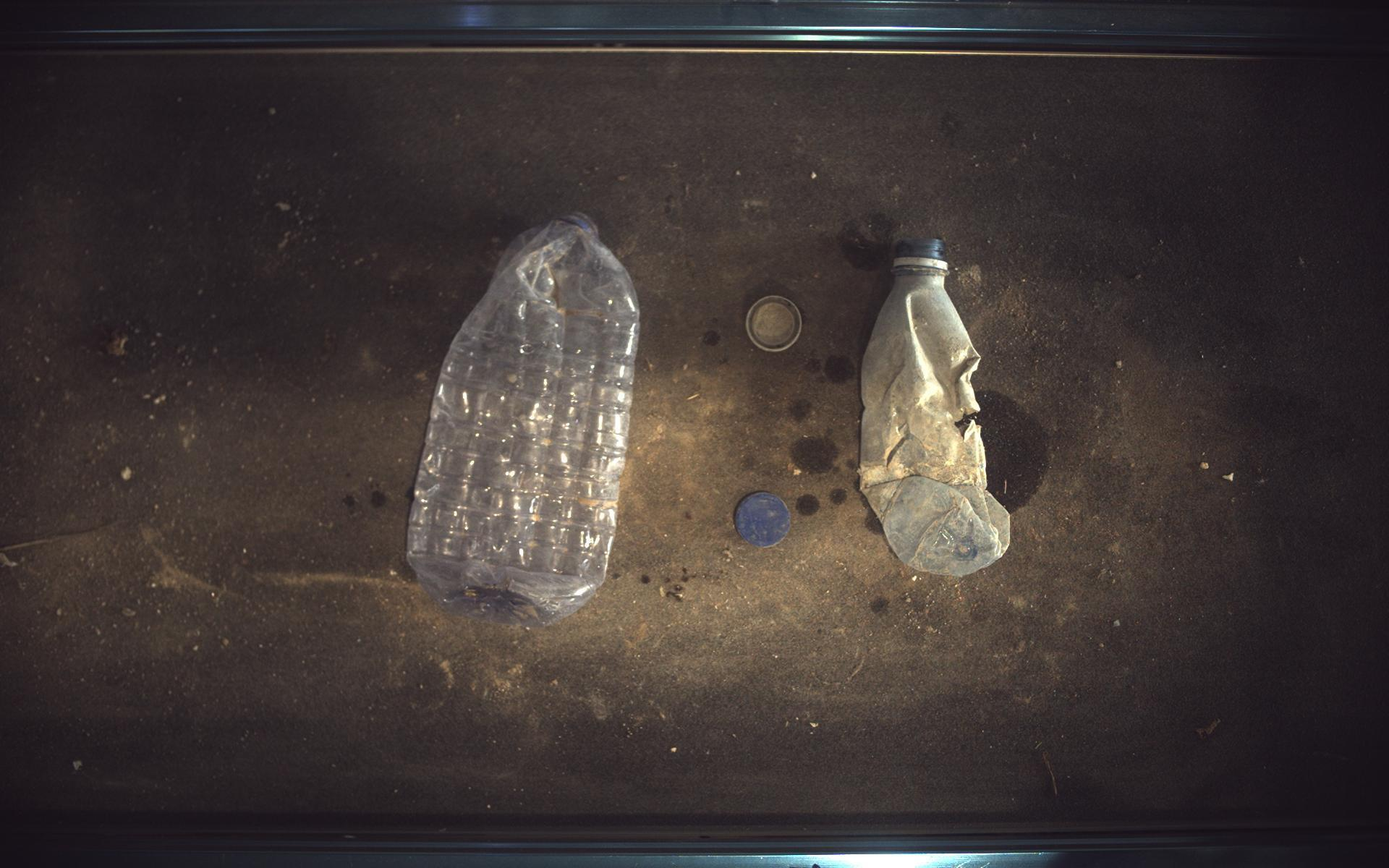general_w: (407, 212, 640, 627), (862, 237, 1013, 577), (747, 294, 804, 352), (736, 493, 792, 548)
